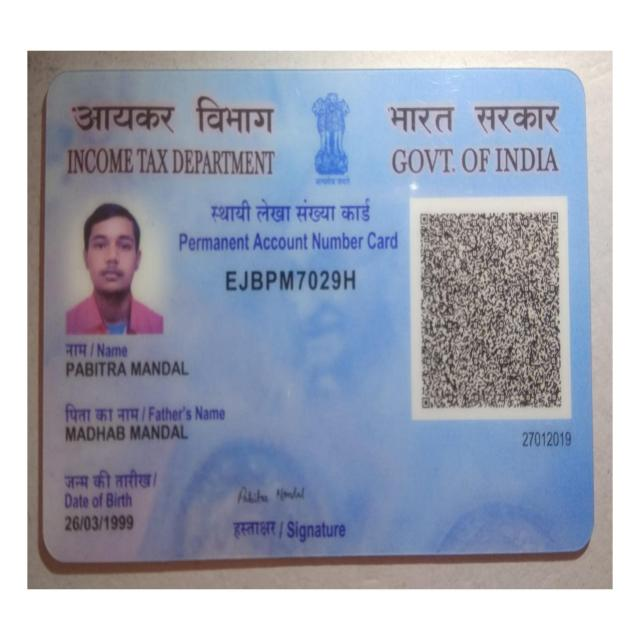pan_card: (50, 74, 586, 558)
